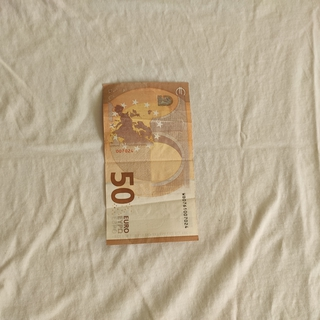50EUROBack: (101, 80, 199, 245)
